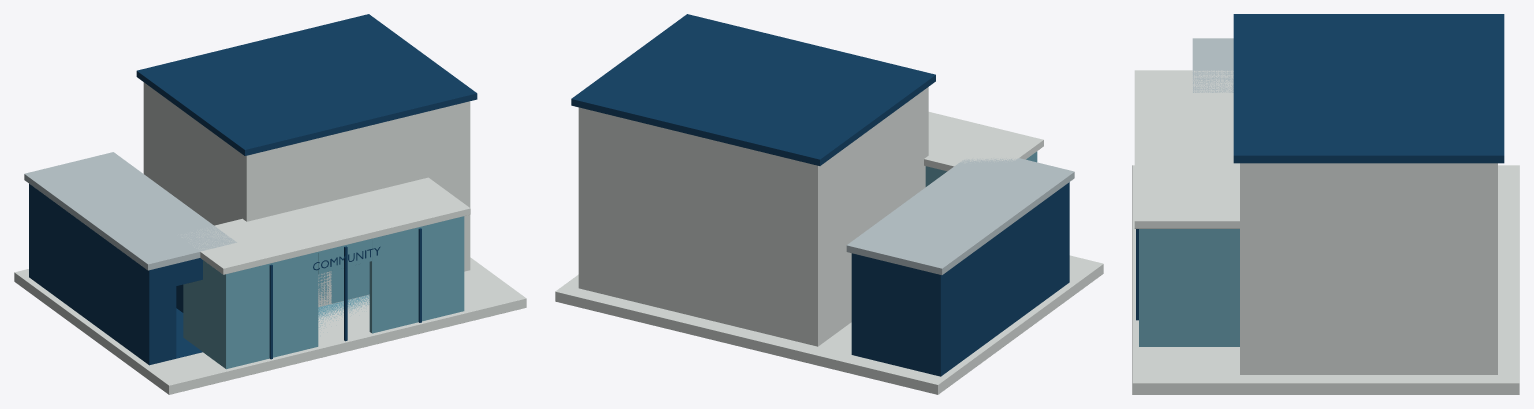
File: edited.glb
3 views of the same model, side by side, from view 1: azimuth 30°, elevation 25°; view 2: azimuth 150°, elevation 25°; view 3: azimuth 270°, elevation 25° (orthographic). The views are drawn at different scales.
Visible parts, largest first — view 1: ROOF_Hall, ROOF_Activity, ROOF_Foyer, FOUNDATION, ACTIVITY_Side.001, HALL_Side, FOYER_FrontPier, FOYER_FrontPier.001, HALL_FrontPier.001, HALL_FrontPier, HALL_EntryHeader, FOYER_Side (+7 smaller); view 2: HALL_Back, ROOF_Hall, HALL_Side, ROOF_Activity, ACTIVITY_Side.001, FOUNDATION, ACTIVITY_Back, ROOF_Foyer, ACTIVITY_Side; view 3: HALL_Side.001, ROOF_Hall, FOUNDATION, ROOF_Foyer, FOYER_Side.001, ROOF_Activity, HALL_Back, HALL_FrontPier.001, FOYER_FrontPier.001, HALL_Roof.
Boxes of the visible parts, bbox=[...] form: ROOF_Hall: bbox=[136, 14, 477, 155]; ROOF_Activity: bbox=[24, 152, 236, 270]; ROOF_Foyer: bbox=[181, 177, 470, 274]; FOUNDATION: bbox=[14, 257, 526, 394]; ACTIVITY_Side.001: bbox=[29, 184, 153, 364]; HALL_Side: bbox=[143, 82, 251, 225]; FOYER_FrontPier: bbox=[223, 252, 318, 369]; FOYER_FrontPier.001: bbox=[369, 216, 464, 333]; HALL_FrontPier.001: bbox=[385, 103, 470, 271]; HALL_FrontPier: bbox=[244, 135, 331, 306]; HALL_EntryHeader: bbox=[331, 122, 385, 200]; FOYER_Side: bbox=[185, 260, 229, 367]; HALL_Back: bbox=[578, 107, 820, 346]; ROOF_Hall: bbox=[571, 14, 935, 165]; HALL_Side: bbox=[813, 87, 928, 345]; ROOF_Activity: bbox=[846, 158, 1074, 274]; ACTIVITY_Side.001: bbox=[935, 183, 1069, 376]; FOUNDATION: bbox=[555, 255, 1103, 394]; ACTIVITY_Back: bbox=[855, 254, 937, 375]; ROOF_Foyer: bbox=[924, 112, 1043, 171]; ACTIVITY_Side: bbox=[851, 254, 856, 355]; HALL_Side.001: bbox=[1240, 163, 1497, 374]; ROOF_Hall: bbox=[1233, 14, 1504, 163]; FOUNDATION: bbox=[1132, 165, 1519, 394]; ROOF_Foyer: bbox=[1134, 70, 1239, 228]; FOYER_Side.001: bbox=[1139, 229, 1239, 346]; ROOF_Activity: bbox=[1192, 38, 1233, 92]; HALL_Back: bbox=[1491, 163, 1497, 374]; HALL_FrontPier.001: bbox=[1240, 163, 1246, 374]; FOYER_FrontPier.001: bbox=[1139, 229, 1145, 346]; HALL_Roof: bbox=[1246, 163, 1492, 164].
Size of the model in its own units: 12 by 6 by 9.
